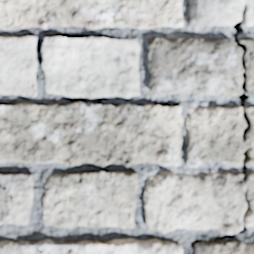brick: (0, 102, 182, 165), (42, 37, 139, 97), (42, 171, 137, 227), (0, 0, 182, 28), (0, 36, 36, 95), (36, 239, 182, 253), (0, 173, 32, 224), (194, 241, 253, 253), (0, 241, 37, 253)
broken_brick: (142, 170, 244, 234), (147, 37, 241, 97), (185, 105, 244, 167), (188, 0, 253, 28), (241, 38, 253, 96), (245, 106, 253, 165), (247, 171, 253, 207), (247, 211, 253, 227)
crack: (190, 2, 253, 251), (11, 60, 22, 94), (29, 243, 44, 253), (30, 89, 37, 96)
